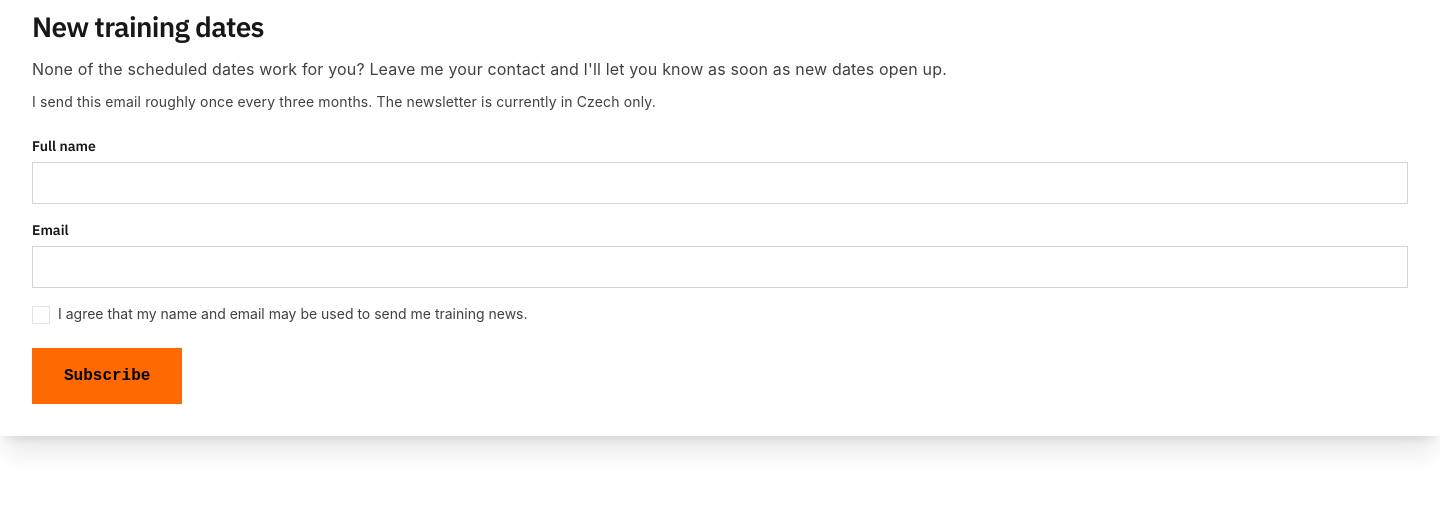
Scenario: TrainingNewsletterSignUp › shows an error message when Ecomail fails
In the field labelled "Full name": (720, 183) [32,162,1408,204], type "Jan Novak"
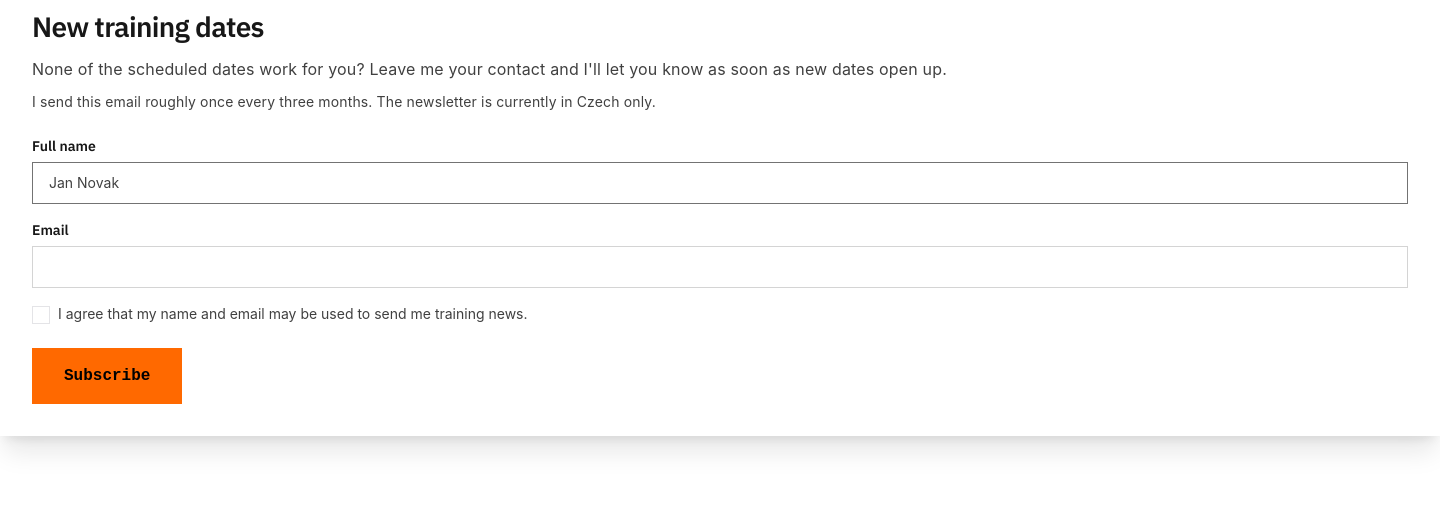
In the field labelled "Email": (720, 267) [32,246,1408,288], type "jan@example.com"
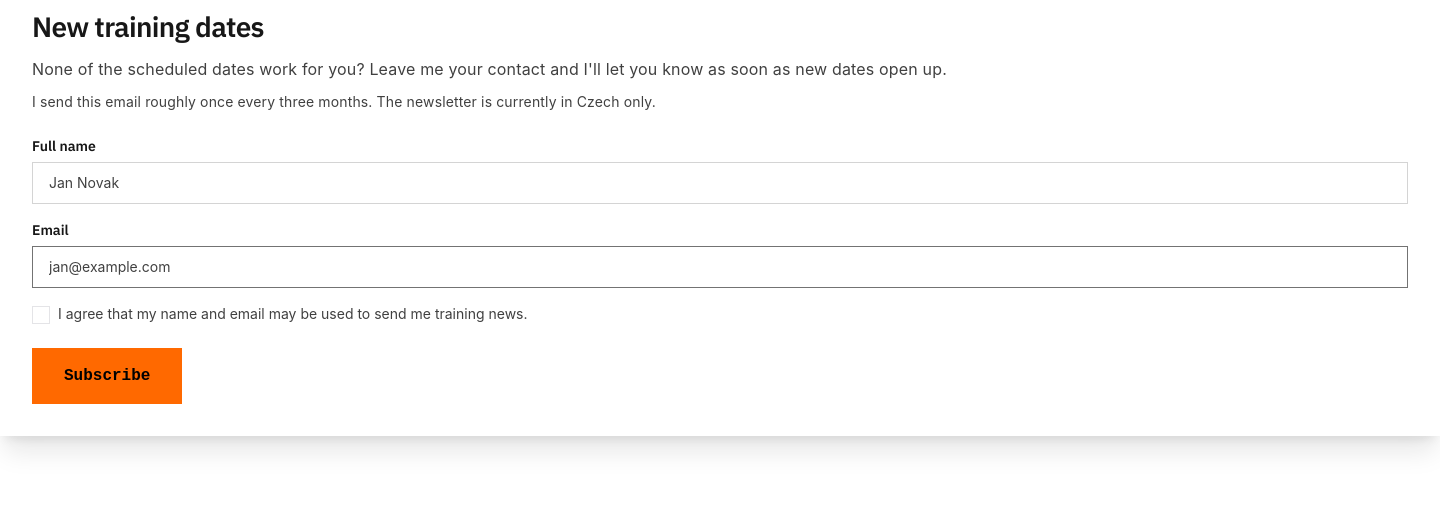
Click the 1st checkbox: (41, 315) [32,306,50,324]
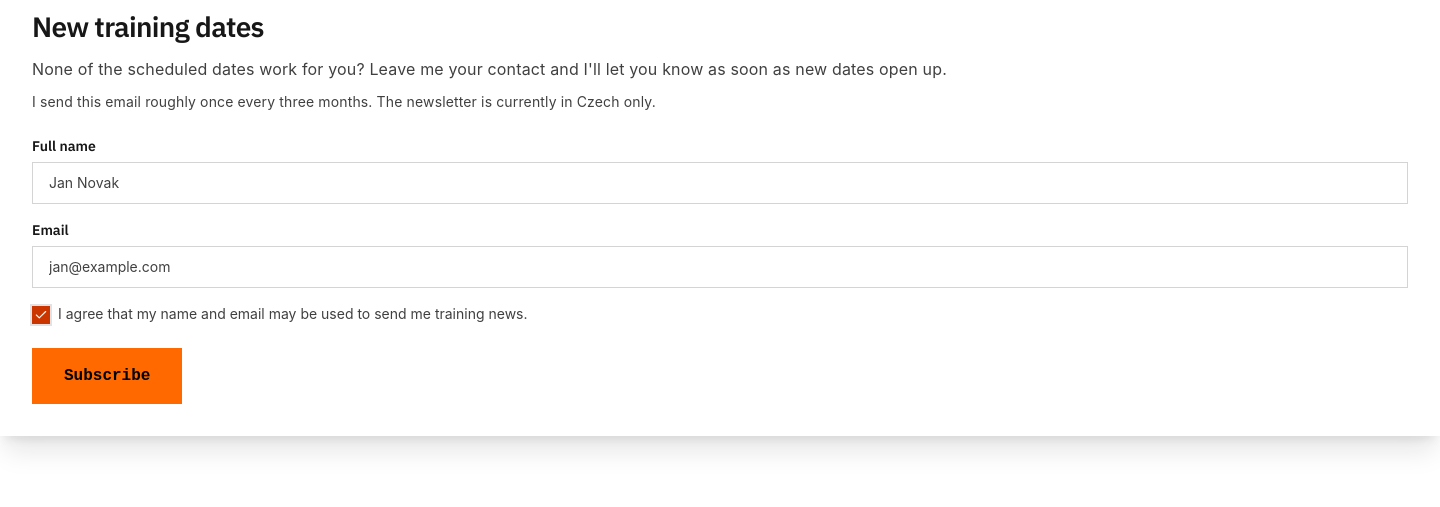
Click the button "Subscribe": (107, 376) [32,348,182,404]
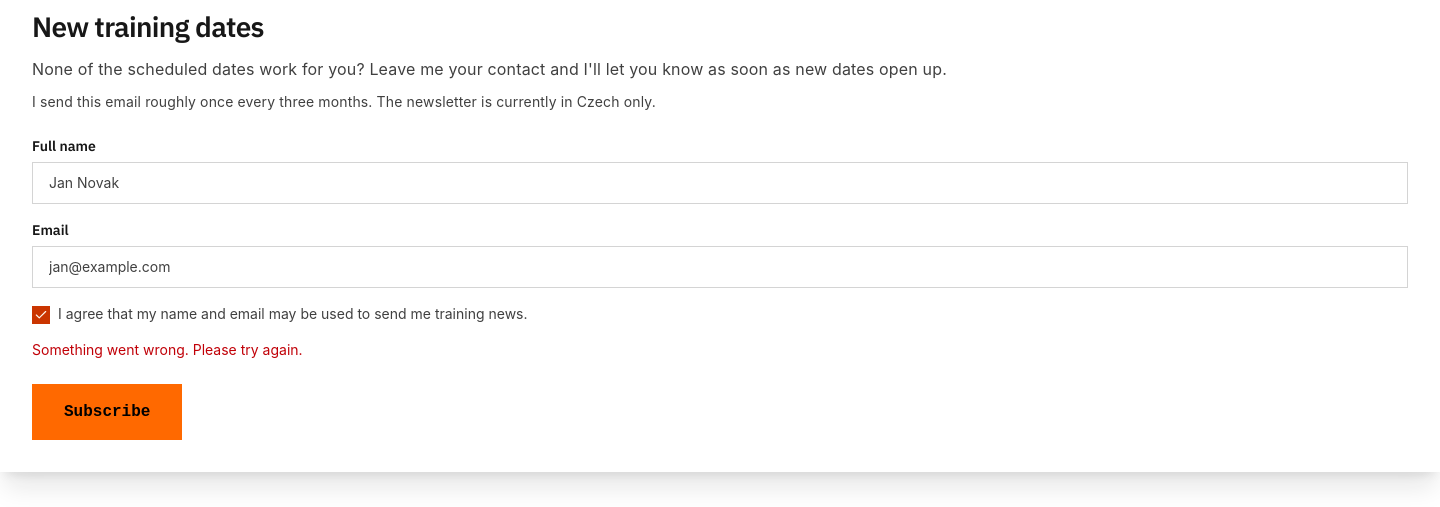
expect the text "Something went wrong. Please try again." is shown: met, box [32,341,303,358]
